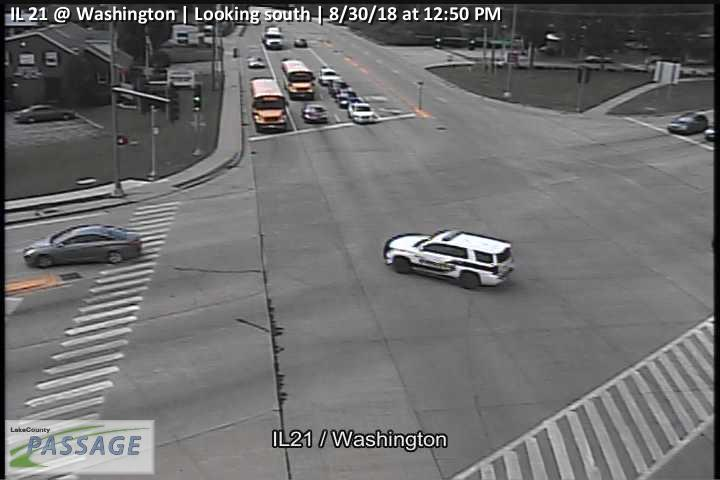SUV: (382, 230, 514, 290)
Sedan: (22, 223, 142, 268), (12, 103, 78, 125), (665, 110, 708, 136), (347, 101, 382, 125), (302, 101, 330, 123), (335, 87, 364, 108), (318, 66, 340, 85), (328, 78, 350, 94)
Truck: (250, 76, 289, 134), (280, 56, 316, 101)
